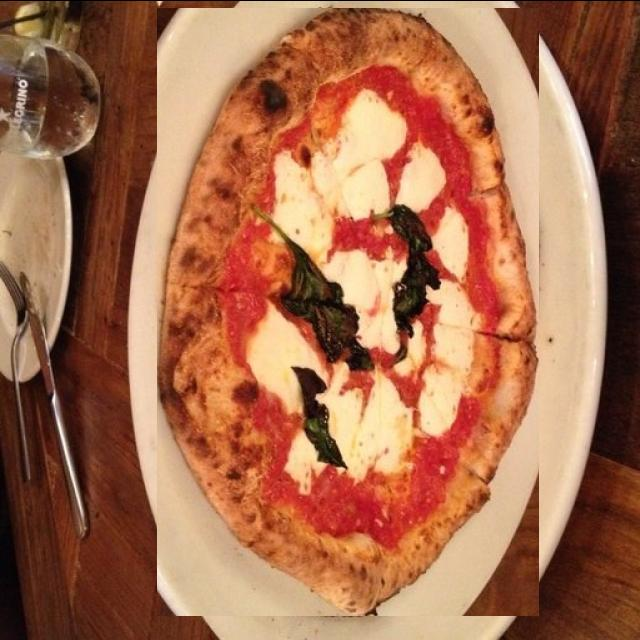basil: (157, 7, 539, 615), (322, 249, 442, 412), (254, 257, 320, 419), (348, 152, 402, 257)
